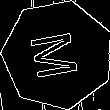M_E: (28, 27, 87, 82)
